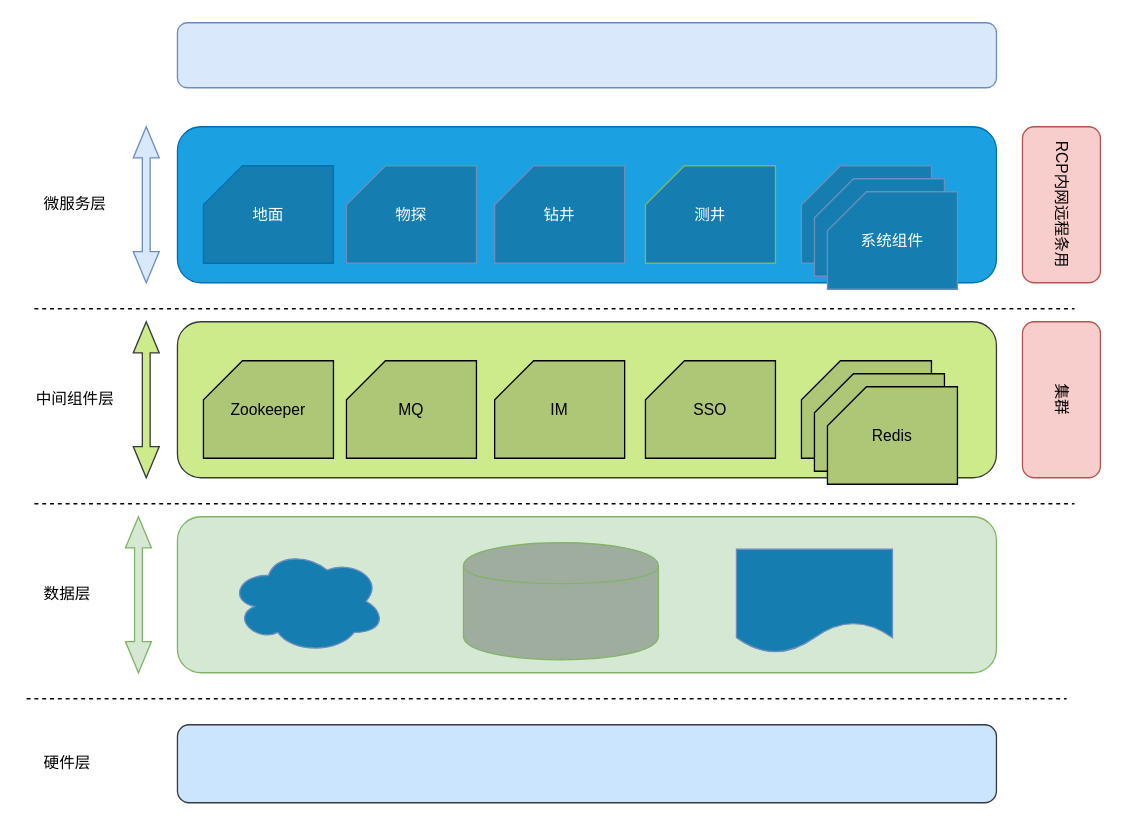
The diagram is 1123 pixels wide and 826 high, and some of its shapes have lost their labels. The shapes that lost their labels are listed below. From the top down, each one's centre as x and y in pixels, then its label:
[586,54]: Nginx 负载/反向代理
[306,600]: 容灾中心
[560,600]: Oracle HBase ElasticSearch
[813,600]: 读写分离
[586,763]: 云服务
